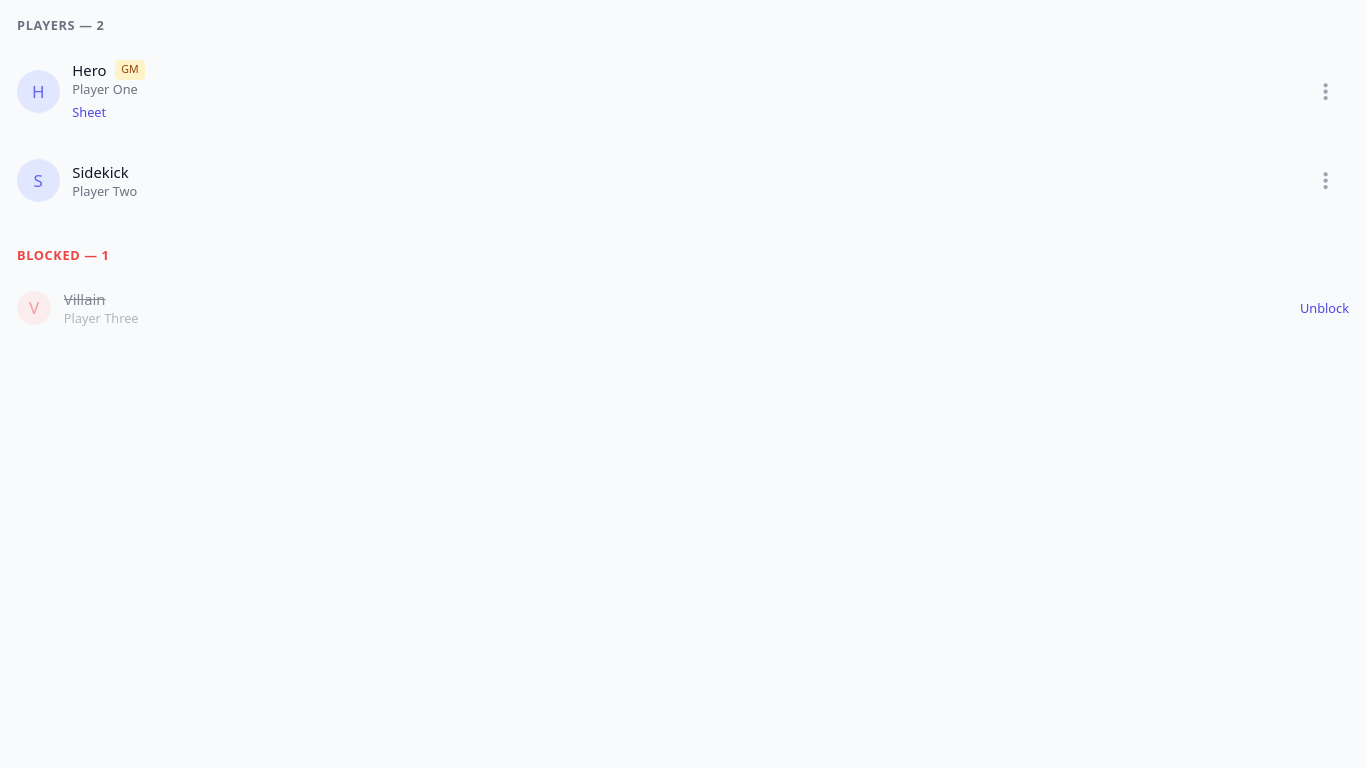
MemberList › handles kick member error
The image size is (1366, 768).
Click the button with test id "menu-btn-m2" at (1326, 181), box x1=1302 y1=157 x2=1349 y2=204
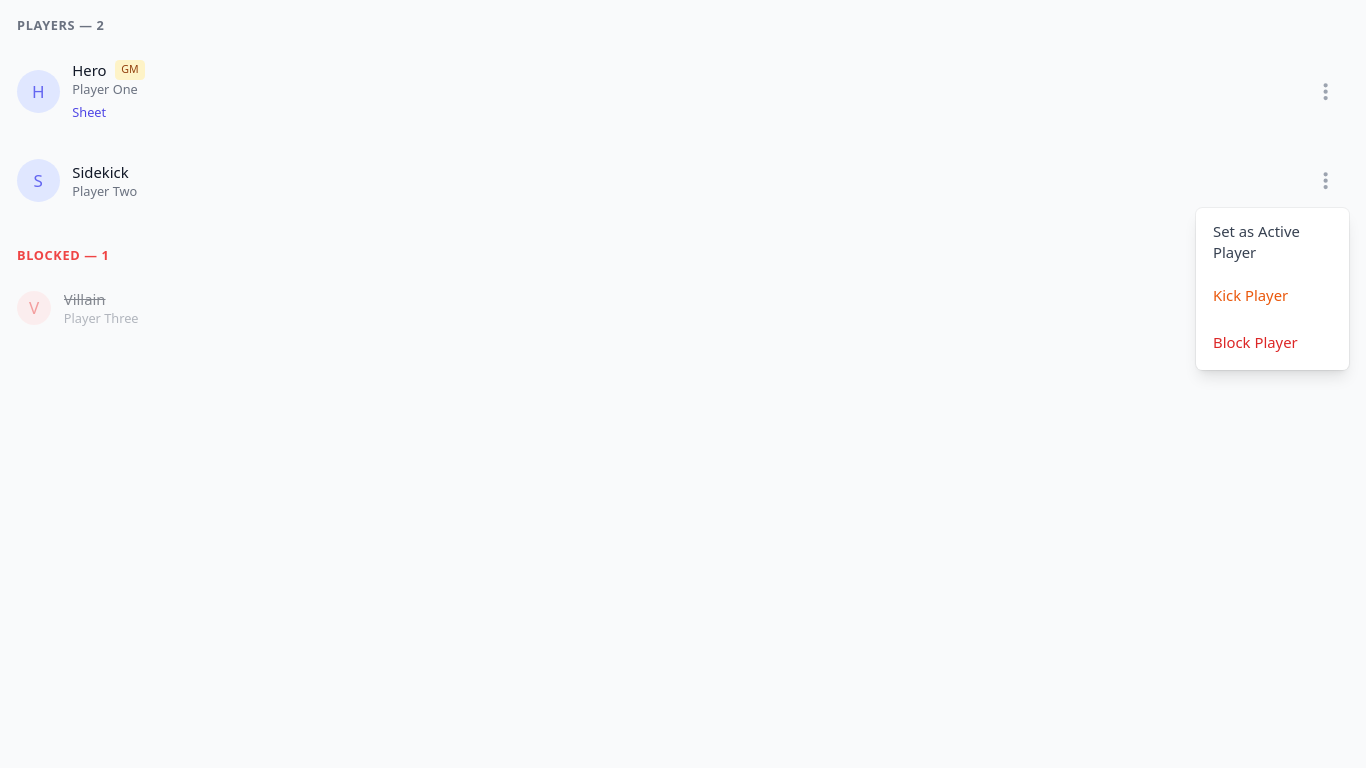
Click the menu item "Kick Player" at (1272, 295), box x1=1196 y1=272 x2=1349 y2=319
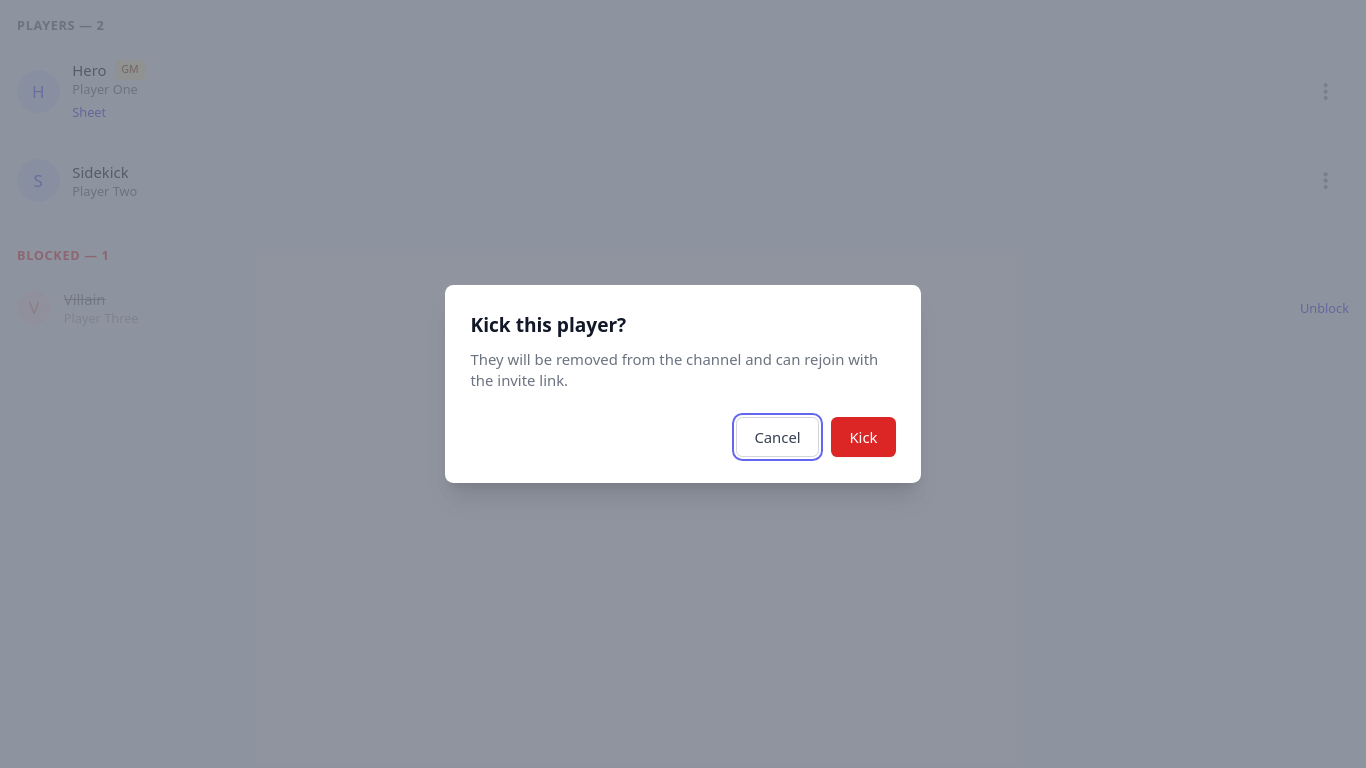
Click the button "Kick" at (863, 437), box x1=831 y1=417 x2=896 y2=457
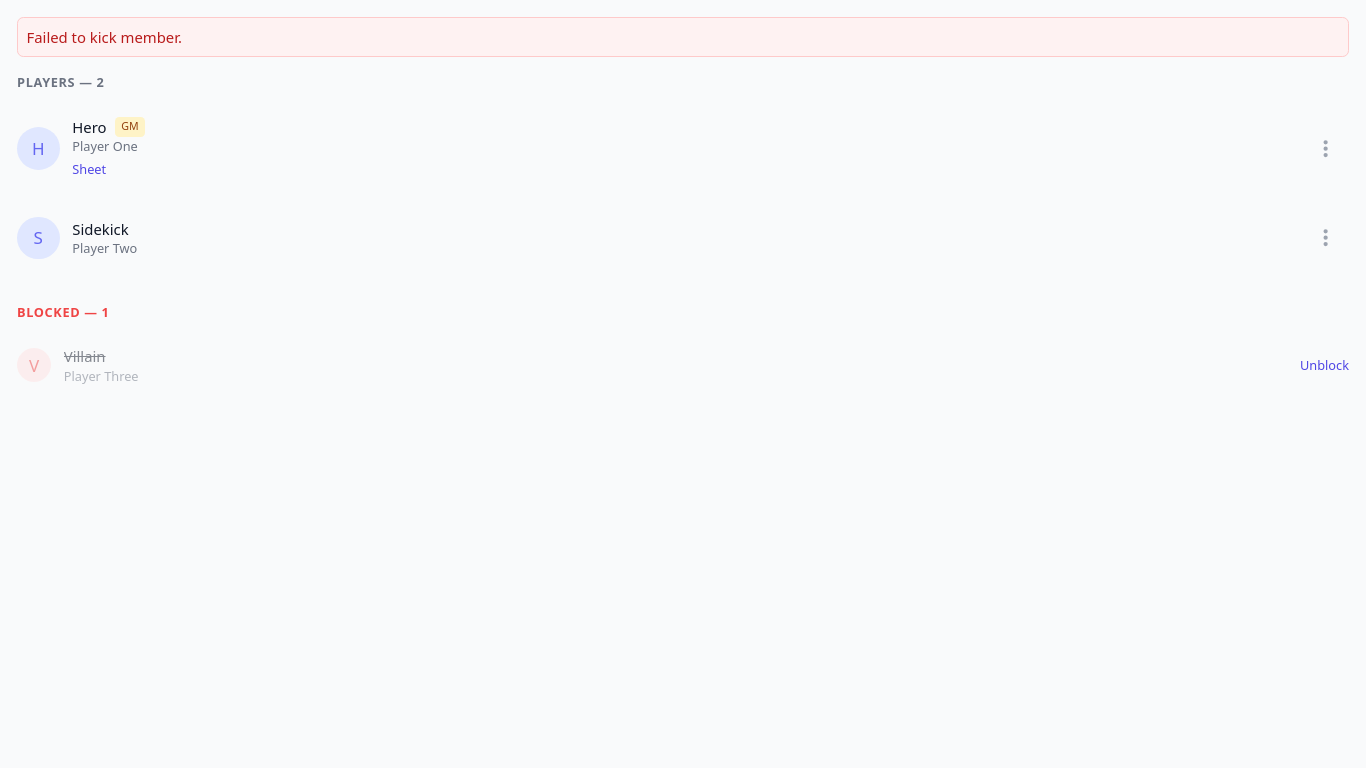
Result: the text "Failed to kick member." is shown at x1=17 y1=17 x2=1349 y2=57
